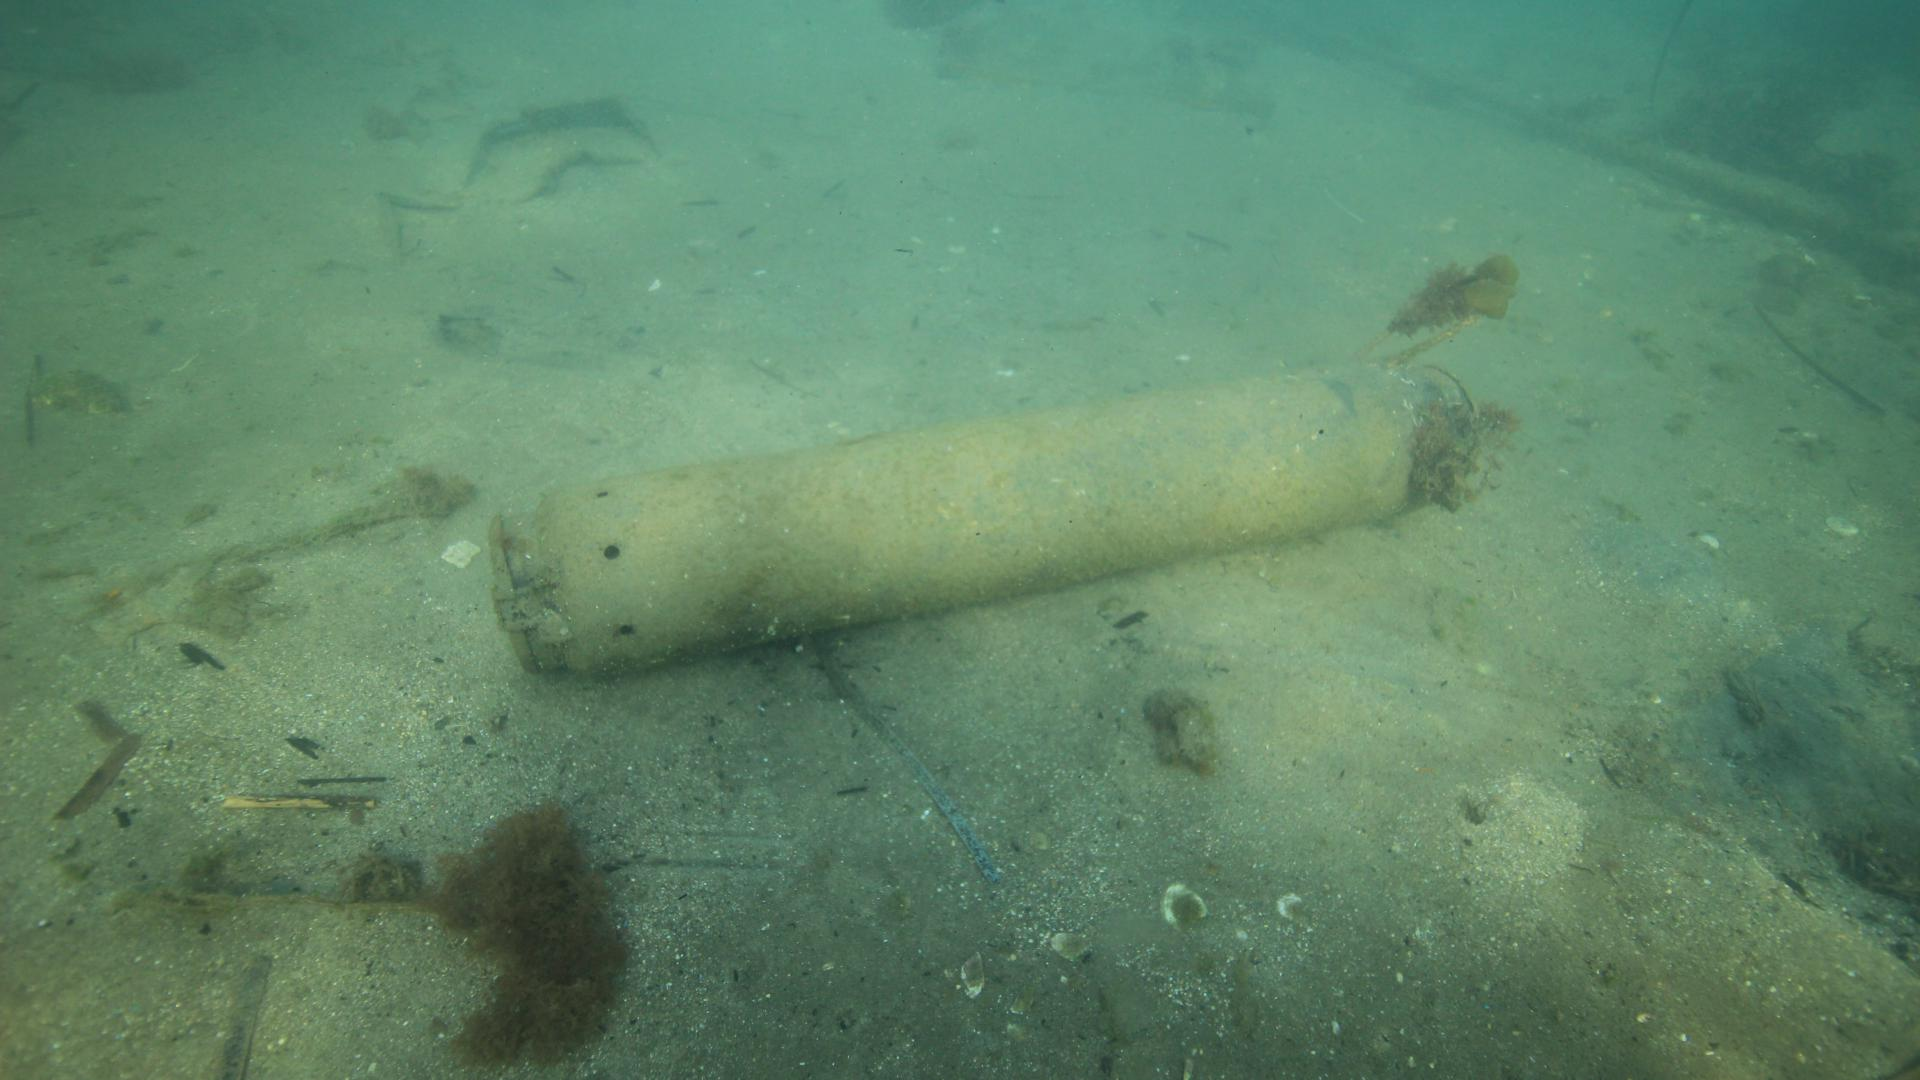eel fish trap: (488, 353, 1482, 680)
